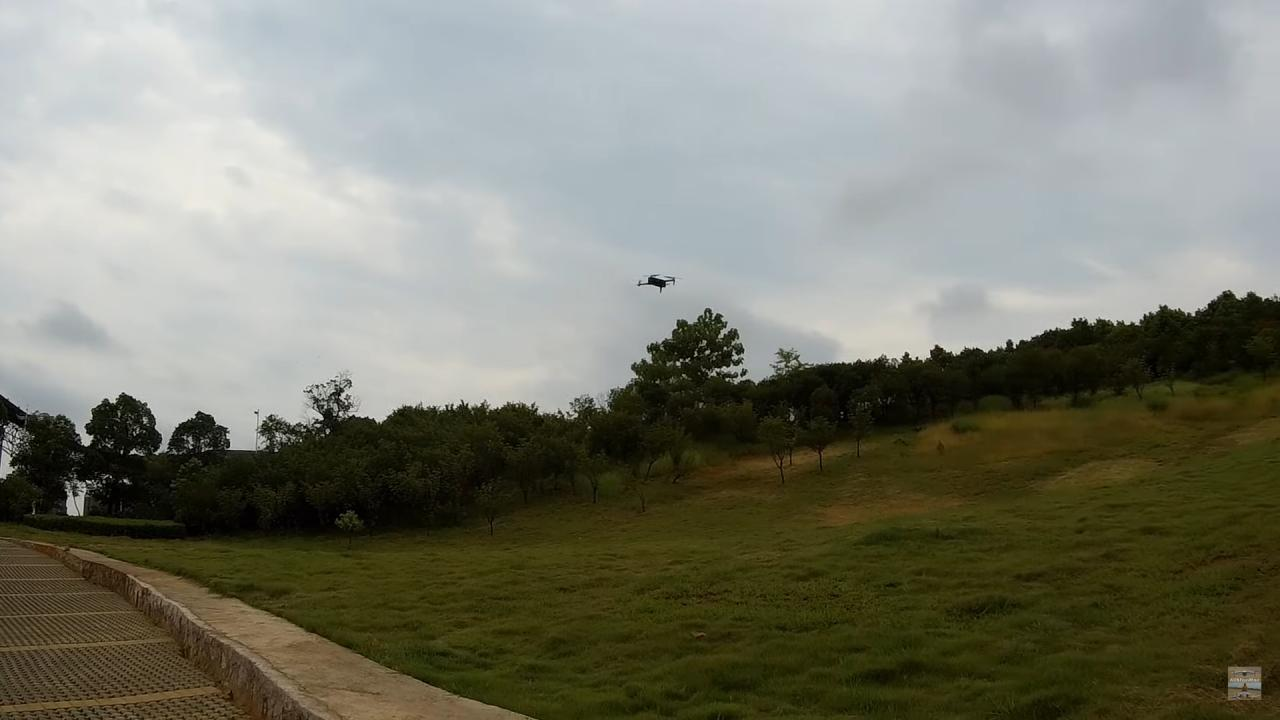Drone: (625, 264, 691, 302)
